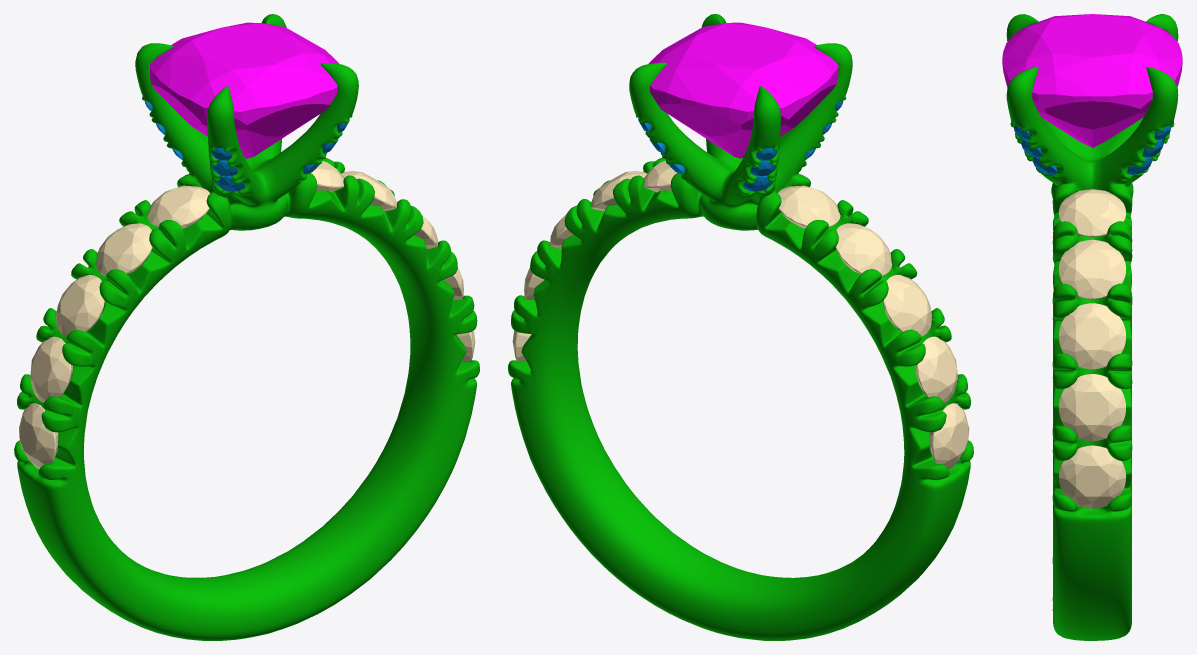
Rendered from BE1D8721P_CU_200ct_RENDER.glb.
The picture shows the model from 3 angles, left to right: view 1: azimuth 30°, elevation 25°; view 2: azimuth 150°, elevation 25°; view 3: azimuth 270°, elevation 25°; orthographic projection.
Visible parts, largest first — view 1: Metal 01, CS_Diamond_Cushion, Diamond_Round_Gem_SH.008, Diamond_Round_Gem_SH.009, Diamond_Round_Gem_SH.007, Diamond_Round_Gem_SH, Diamond_Round_Gem_SH.006, Diamond_Round_Gem_SH.002, Diamond_Round_Gem_SH.001; view 2: Metal 01, CS_Diamond_Cushion, Diamond_Round_Gem_SH.008, Diamond_Round_Gem_SH.009, Diamond_Round_Gem_SH.007, Diamond_Round_Gem_SH, Diamond_Round_Gem_SH.006, Diamond_Round_Gem_SH.002, Diamond_Round_Gem_SH.001; view 3: Metal 01, CS_Diamond_Cushion, Diamond_Round_Gem_SH.004, Diamond_Round_Gem_SH.003, Diamond_Round_Gem_SH.005, Diamond_Round_Gem_SH.002, Diamond_Round_Gem_SH.001.
Part boxes in pixels (<box>): Metal 01: <box>14,14,479,640</box>; CS_Diamond_Cushion: <box>150,22,339,158</box>; Diamond_Round_Gem_SH.008: <box>56,275,104,336</box>; Diamond_Round_Gem_SH.009: <box>96,223,152,276</box>; Diamond_Round_Gem_SH.007: <box>30,336,72,402</box>; Diamond_Round_Gem_SH: <box>147,185,209,228</box>; Diamond_Round_Gem_SH.006: <box>19,403,58,468</box>; Diamond_Round_Gem_SH.002: <box>341,171,396,211</box>; Diamond_Round_Gem_SH.001: <box>311,161,344,192</box>; Metal 01: <box>508,14,973,640</box>; CS_Diamond_Cushion: <box>648,22,838,158</box>; Diamond_Round_Gem_SH.008: <box>883,274,932,336</box>; Diamond_Round_Gem_SH.009: <box>835,223,892,276</box>; Diamond_Round_Gem_SH.007: <box>915,336,957,402</box>; Diamond_Round_Gem_SH: <box>778,185,840,228</box>; Diamond_Round_Gem_SH.006: <box>929,403,969,468</box>; Diamond_Round_Gem_SH.002: <box>591,171,647,211</box>; Diamond_Round_Gem_SH.001: <box>644,161,676,192</box>; Metal 01: <box>1006,14,1178,640</box>; CS_Diamond_Cushion: <box>1002,14,1182,147</box>; Diamond_Round_Gem_SH.004: <box>1059,374,1125,441</box>; Diamond_Round_Gem_SH.003: <box>1058,303,1126,369</box>; Diamond_Round_Gem_SH.005: <box>1058,445,1126,508</box>; Diamond_Round_Gem_SH.002: <box>1058,239,1126,299</box>; Diamond_Round_Gem_SH.001: <box>1058,189,1126,236</box>.
Bounding box in the file's own units: 21.12 × 26.69 × 7.5.
